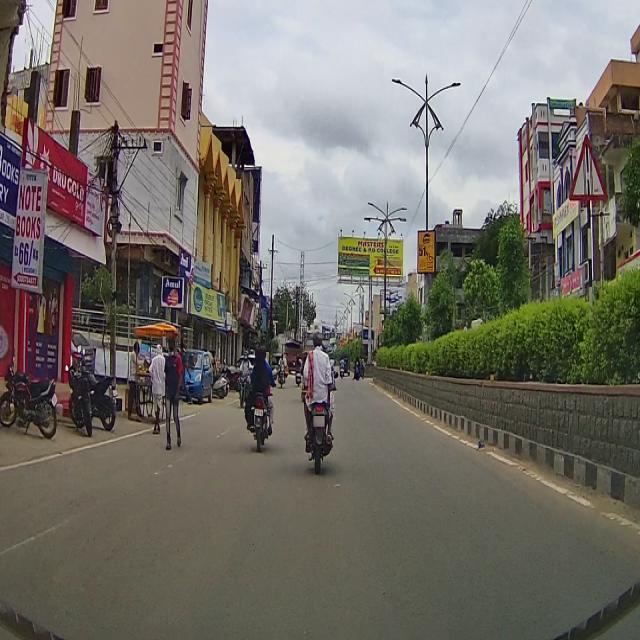gap-in-median: (568, 119, 608, 210)
